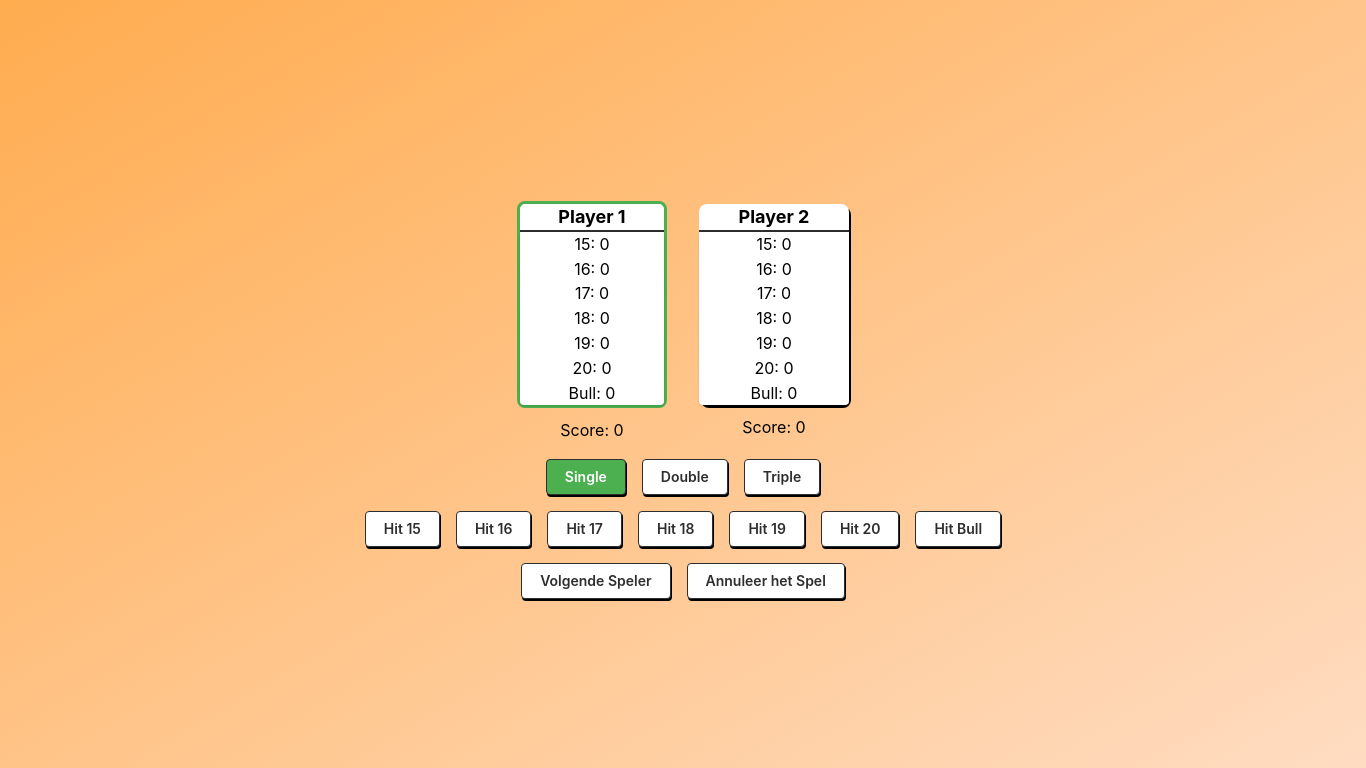
Test case: CutThroatPage › should update the card when hitting a value
This screenshot has width=1366, height=768.
Click the button "Hit 20" at (860, 529), box [821,511,899,547]
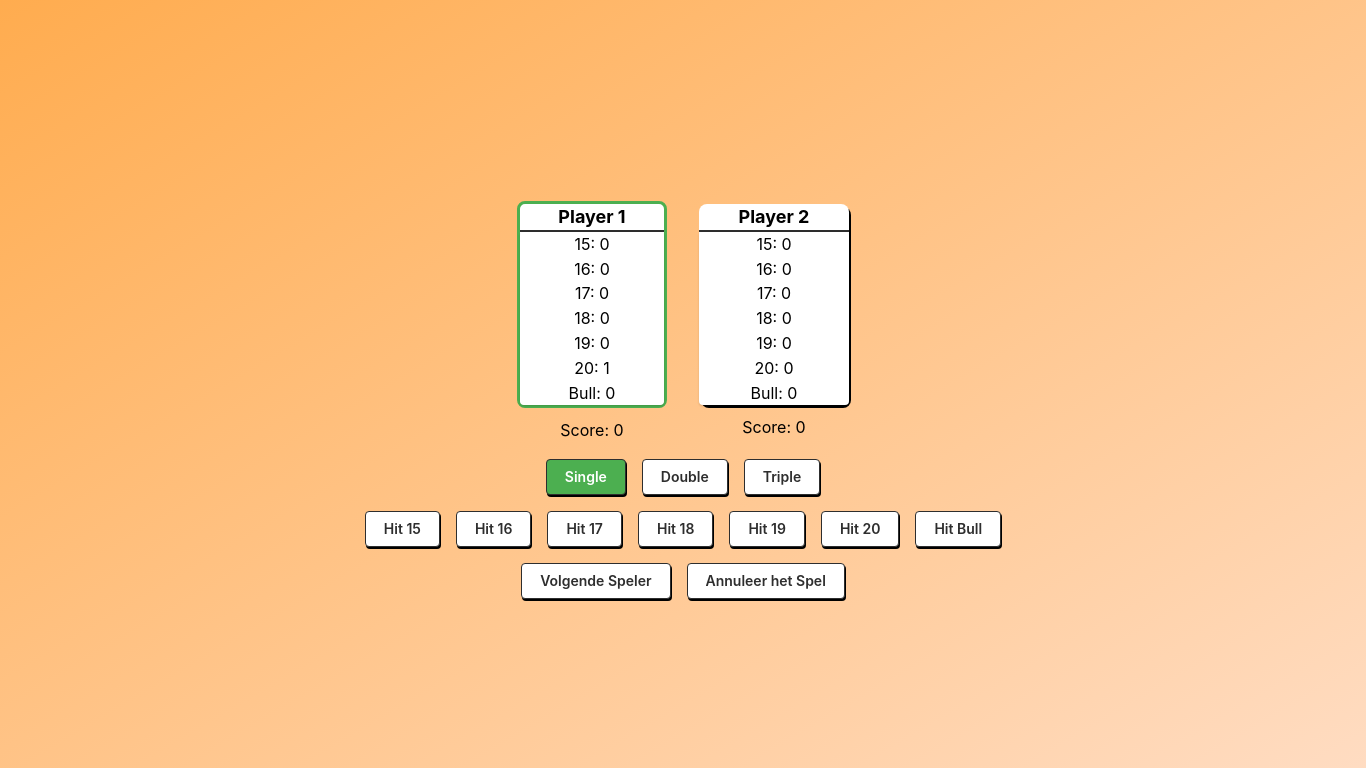
Check: the element with test id "p1" shows "20: 1", box [517,201,667,408]
